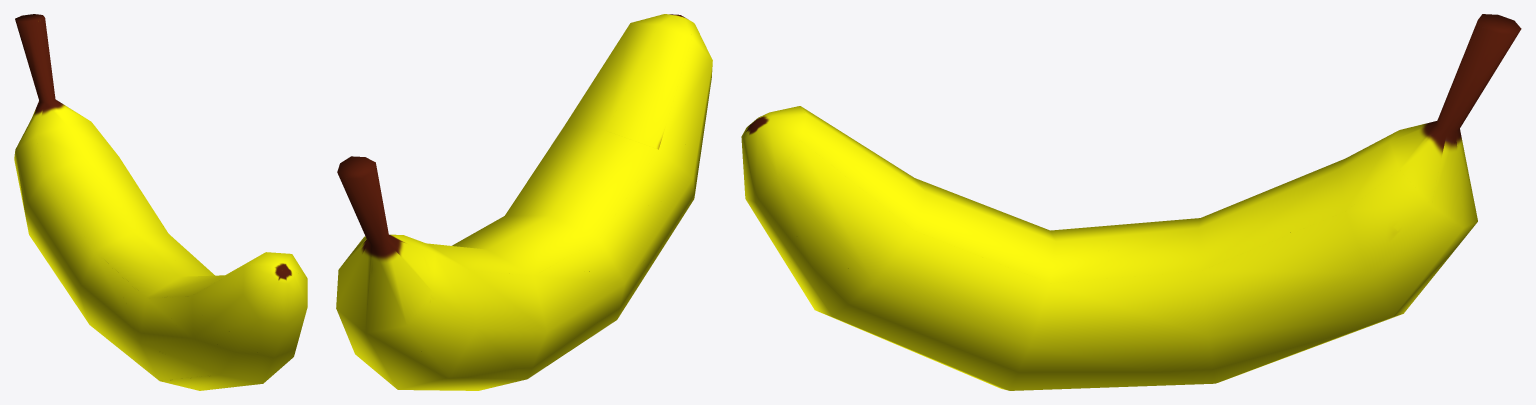
File: Plátano.glb
The picture shows the model from 3 angles, left to right: view 1: azimuth 30°, elevation 25°; view 2: azimuth 150°, elevation 25°; view 3: azimuth 270°, elevation 25°; orthographic projection. The views are drawn at different scales.
Parts seen in each view (by area): view 1: banana; view 2: banana; view 3: banana.
Part boxes in pixels (left/top/right/bottom): banana: left=14, top=14, right=307, bottom=390; banana: left=336, top=14, right=712, bottom=390; banana: left=741, top=14, right=1521, bottom=390.
Size of the model in its own units: 0.2993 by 0.7254 by 1.39.
Materials: 1 (1 with a texture image).
